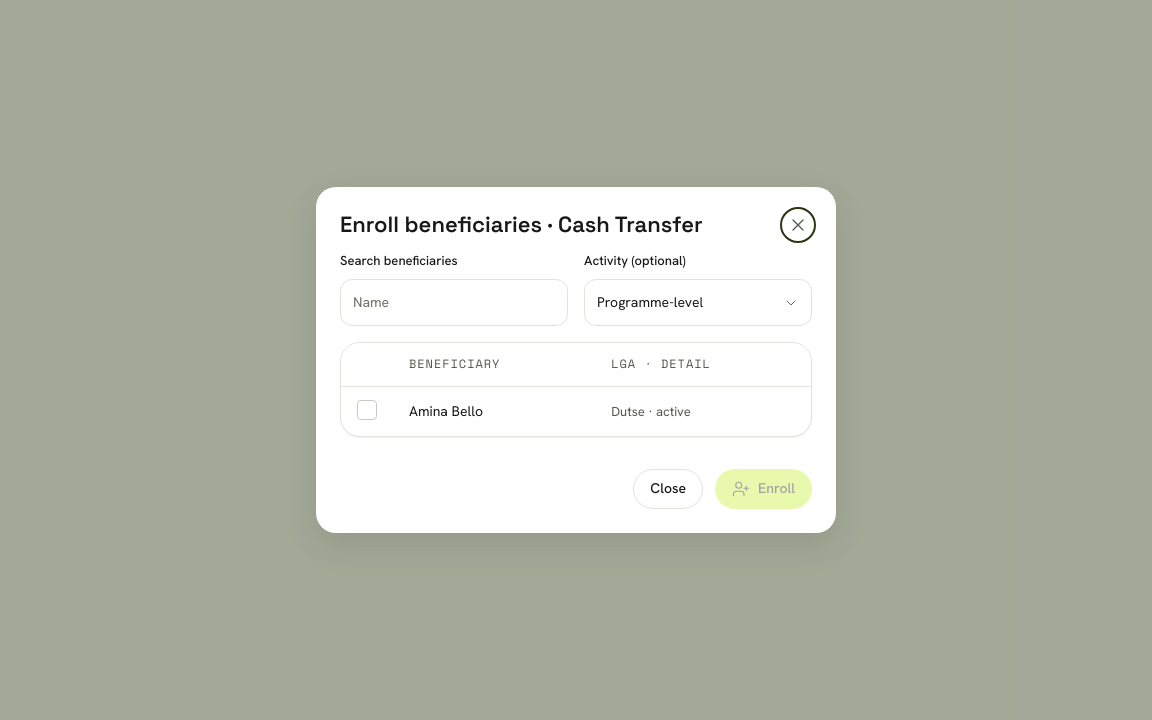
Scenario: EnrollModal › enrolls a selected beneficiary into an individual programme
Type "Amina" into the field labelled "Search beneficiaries" at (454, 303), box [340,279,568,326]
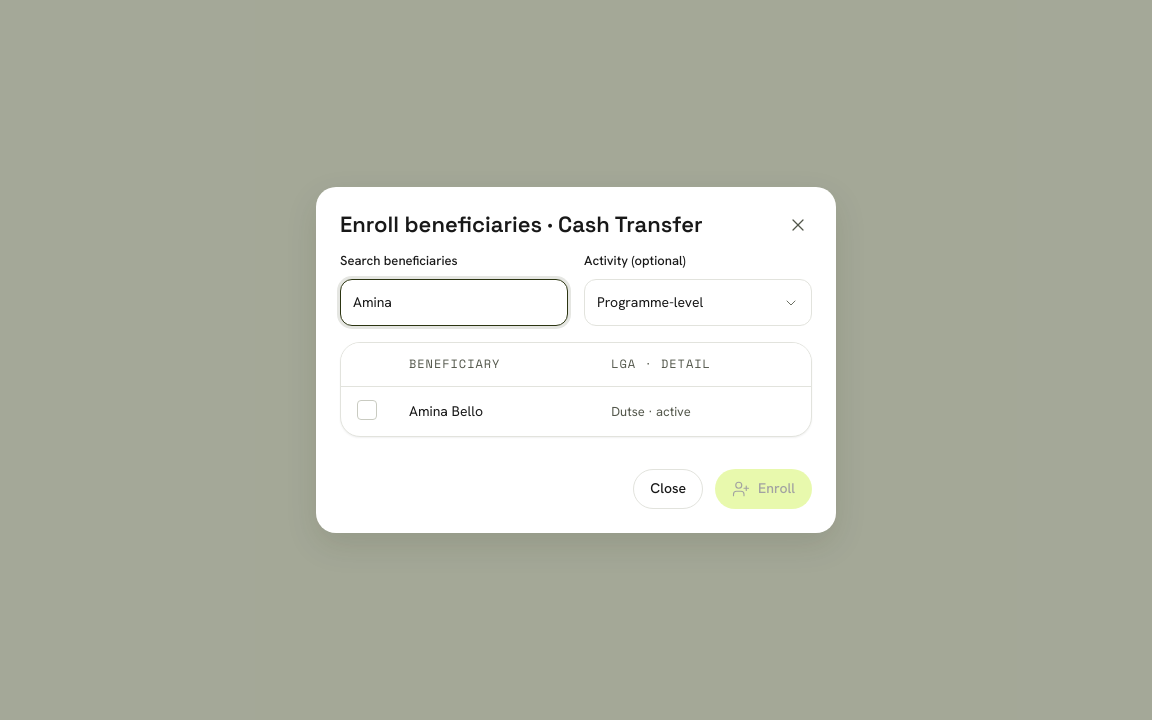
Expected: the text "Amina Bello" is shown, [393,387,595,436]
Click the checkbox named "Select row 1" at (367, 410), box [357,399,377,420]
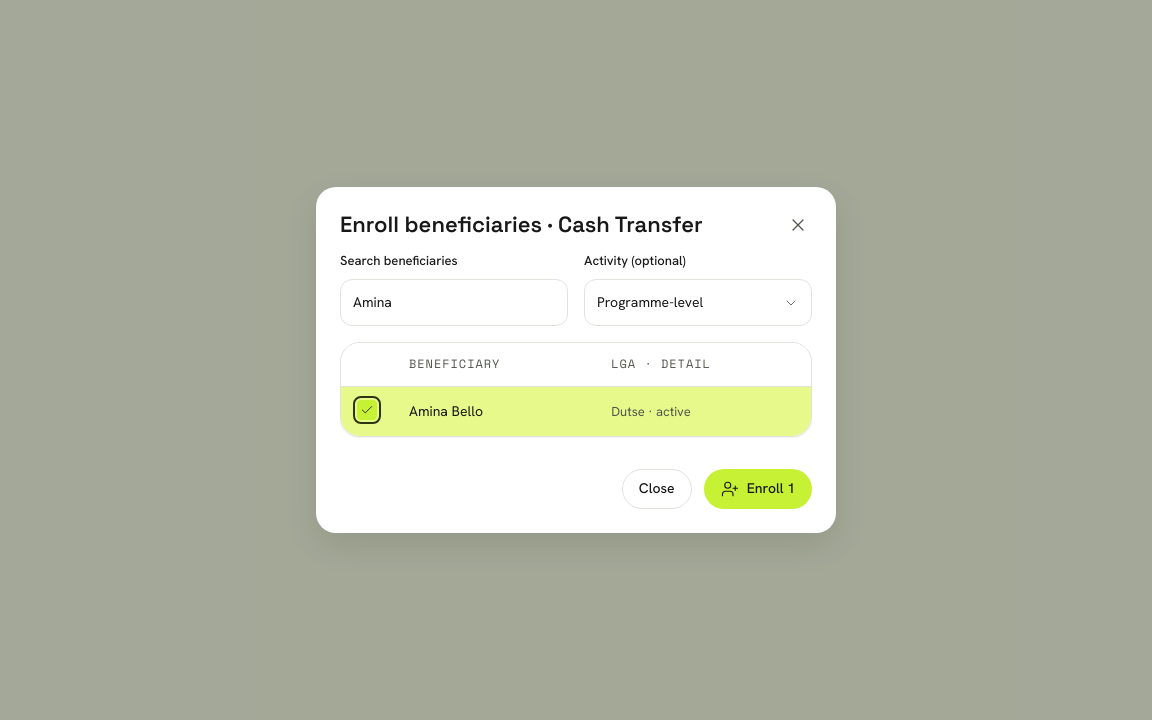
Click the button "Enroll 1" at (758, 489), box [704,469,812,509]
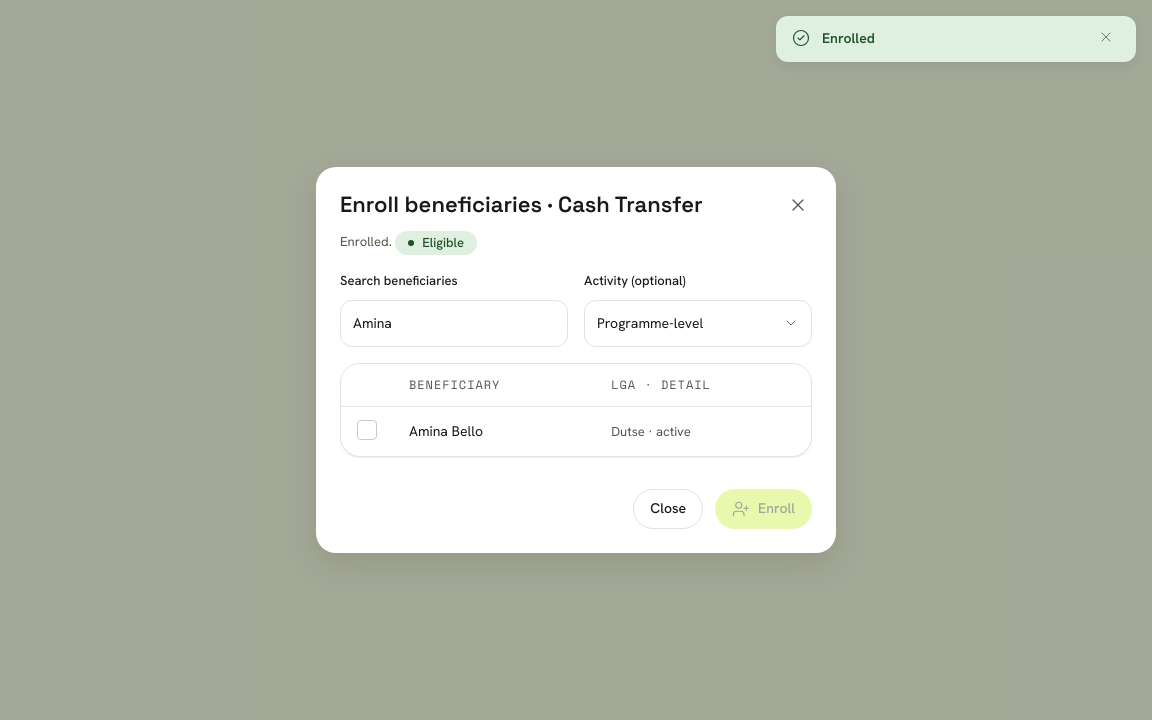
Result: the text "Eligible" is shown at [395,231,477,255]
